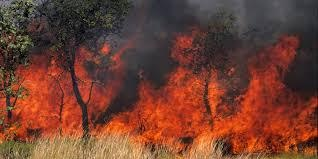fire: (22, 22, 316, 149)
